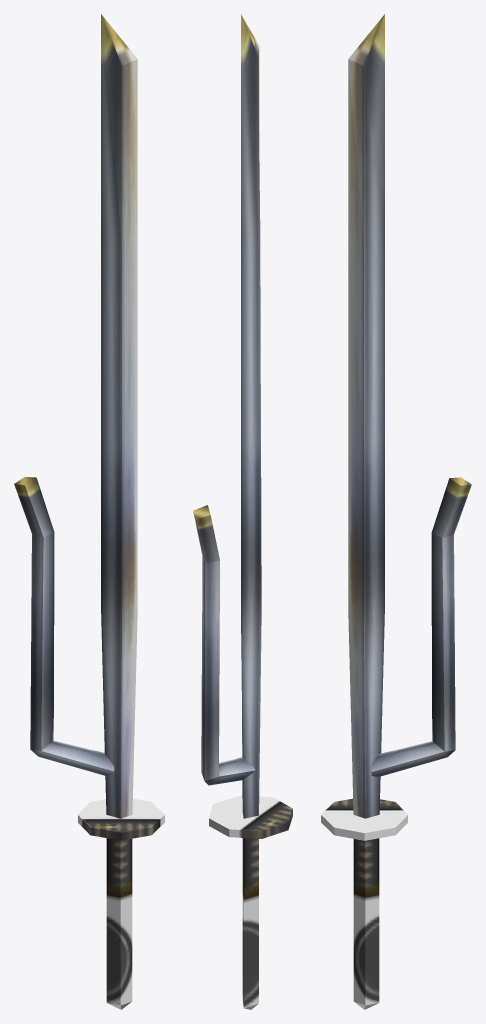
The model's file is heavybladev03.obj.
3 views of the same model, side by side, from view 1: azimuth 90°, elevation 25°; view 2: azimuth 150°, elevation 25°; view 3: azimuth 270°, elevation 25° (orthographic).
Parts seen in each view (by area): view 1: MDL_cw2hkt03; view 2: MDL_cw2hkt03; view 3: MDL_cw2hkt03.
Part boxes in pixels (left/top/right/bottom): MDL_cw2hkt03: left=14, top=14, right=164, bottom=1009; MDL_cw2hkt03: left=193, top=14, right=292, bottom=1009; MDL_cw2hkt03: left=321, top=14, right=471, bottom=1009.
Bounding box in the file's own units: 0.1388 × 1.77 × 0.2425.
